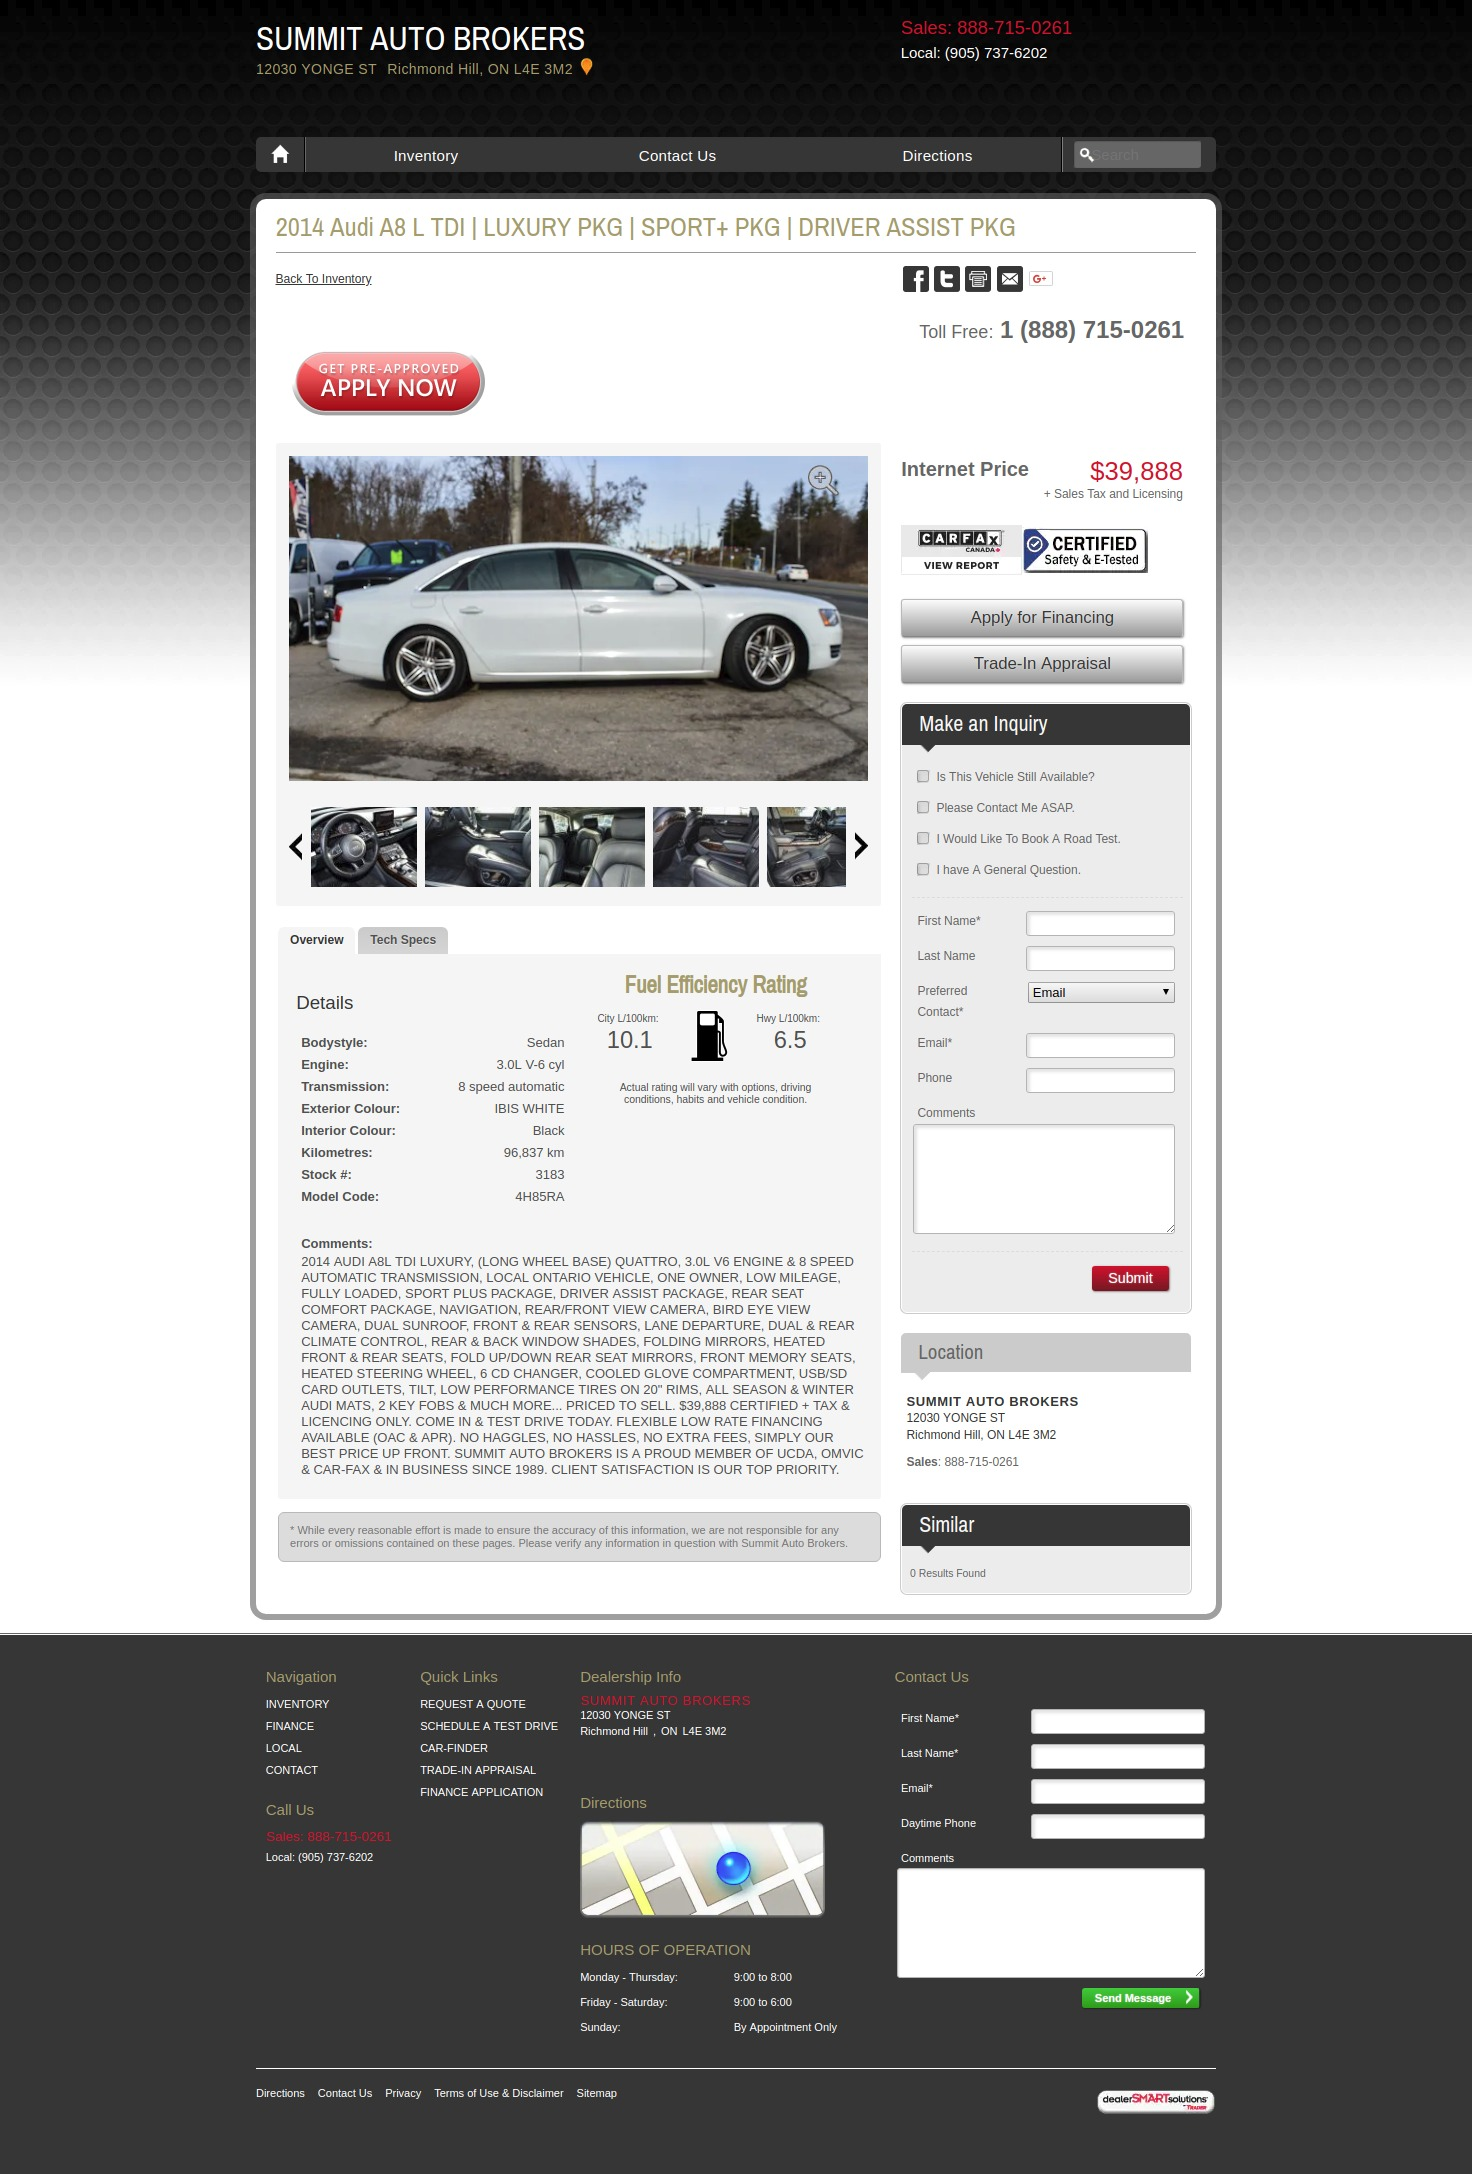car: (854, 832, 869, 860)
